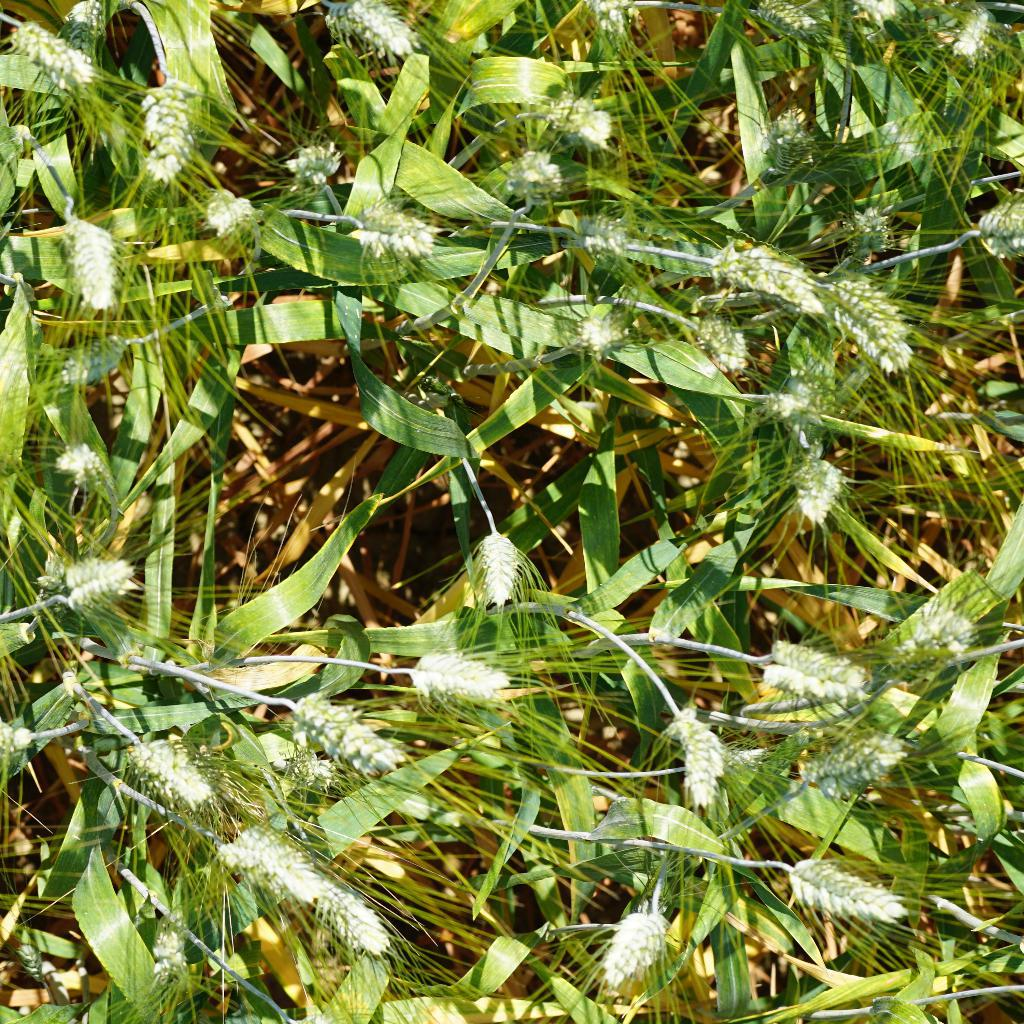0-0: (230, 826, 399, 955), (802, 266, 920, 377), (774, 858, 915, 934), (393, 630, 515, 716), (44, 205, 127, 322), (279, 699, 406, 774), (757, 635, 878, 712), (37, 321, 146, 406), (321, 185, 440, 262), (127, 59, 200, 183), (597, 899, 684, 1001), (879, 600, 985, 683), (7, 10, 99, 105), (703, 235, 814, 311), (120, 737, 224, 817), (44, 549, 154, 619), (183, 163, 276, 245), (804, 729, 907, 803), (664, 692, 728, 806), (466, 518, 537, 615), (195, 832, 296, 897), (676, 307, 766, 376), (787, 448, 858, 534), (320, 0, 422, 58), (747, 101, 821, 175), (555, 200, 641, 261), (135, 915, 213, 979), (539, 92, 619, 153), (834, 197, 905, 264), (266, 744, 344, 798), (505, 148, 575, 208), (677, 740, 783, 779), (744, 0, 840, 43), (961, 193, 1024, 255), (935, 0, 993, 63), (755, 382, 832, 428), (284, 142, 346, 195), (623, 874, 687, 925), (574, 310, 630, 366), (45, 436, 105, 488), (6, 935, 63, 989), (61, 0, 115, 42)
